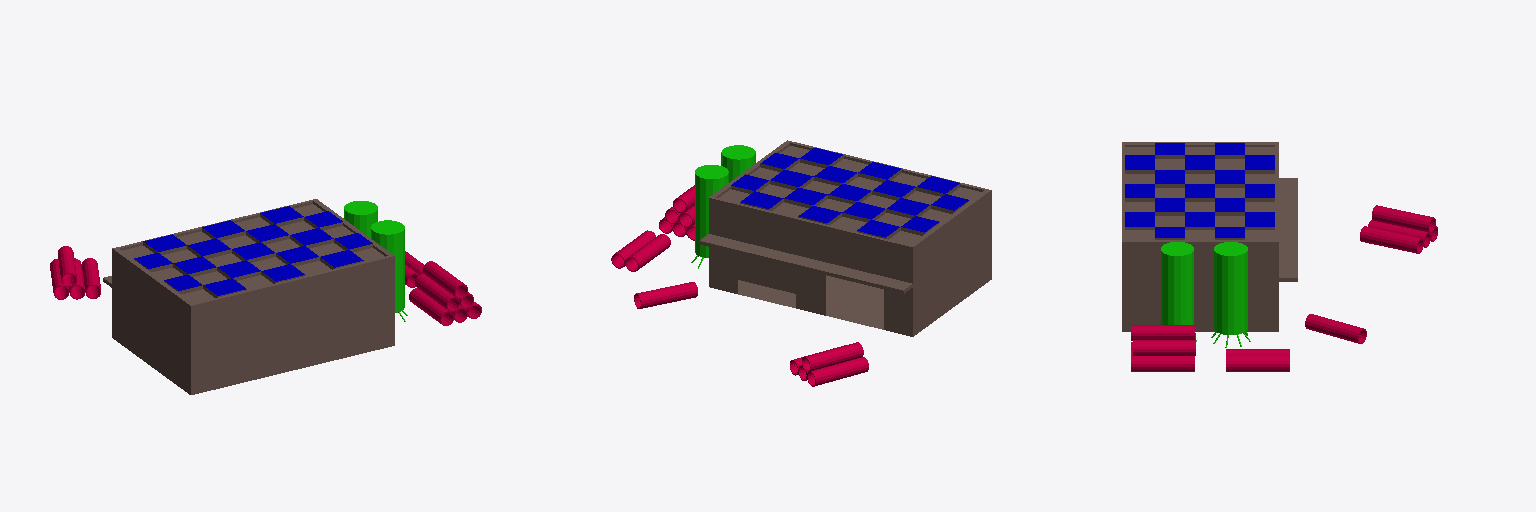
The model's file is Foundry.obj.
3 views of the same model, side by side, from view 1: azimuth 30°, elevation 25°; view 2: azimuth 150°, elevation 25°; view 3: azimuth 270°, elevation 25° (orthographic).
Parts seen in each view (by area): view 1: Circle.007; view 2: Circle.007; view 3: Circle.007.
Boxes of the visible parts, x1,y1,x2,y2 form: Circle.007: [50, 199, 481, 394]; Circle.007: [611, 140, 991, 386]; Circle.007: [1122, 142, 1437, 371].
Bounding box in the file's own units: 0.9182 × 0.268 × 0.829.